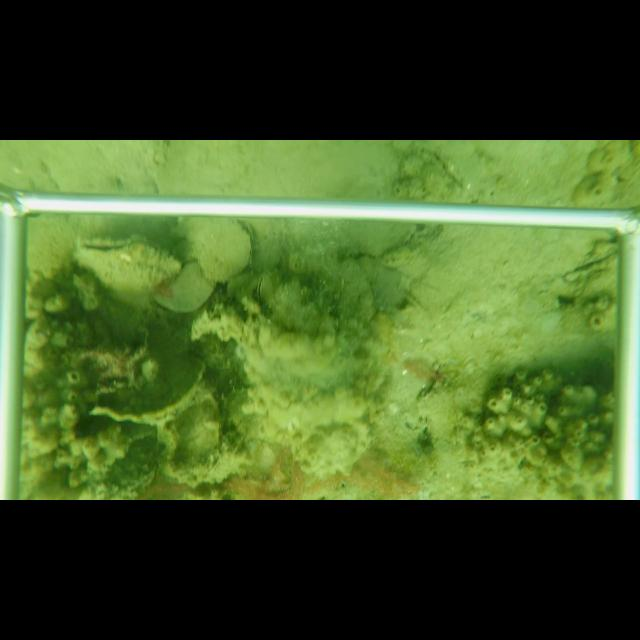Oyster-Closed: (179, 218, 261, 285), (150, 264, 211, 313)
Oyster-Open: (69, 234, 183, 294), (256, 273, 276, 304)
